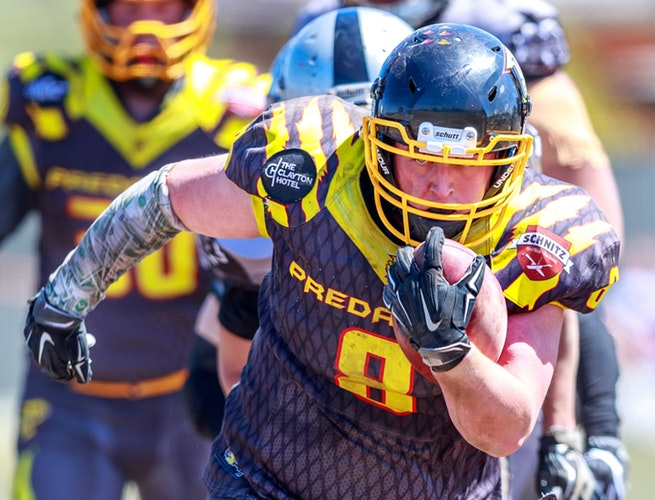helmet: (373, 39, 524, 259)
